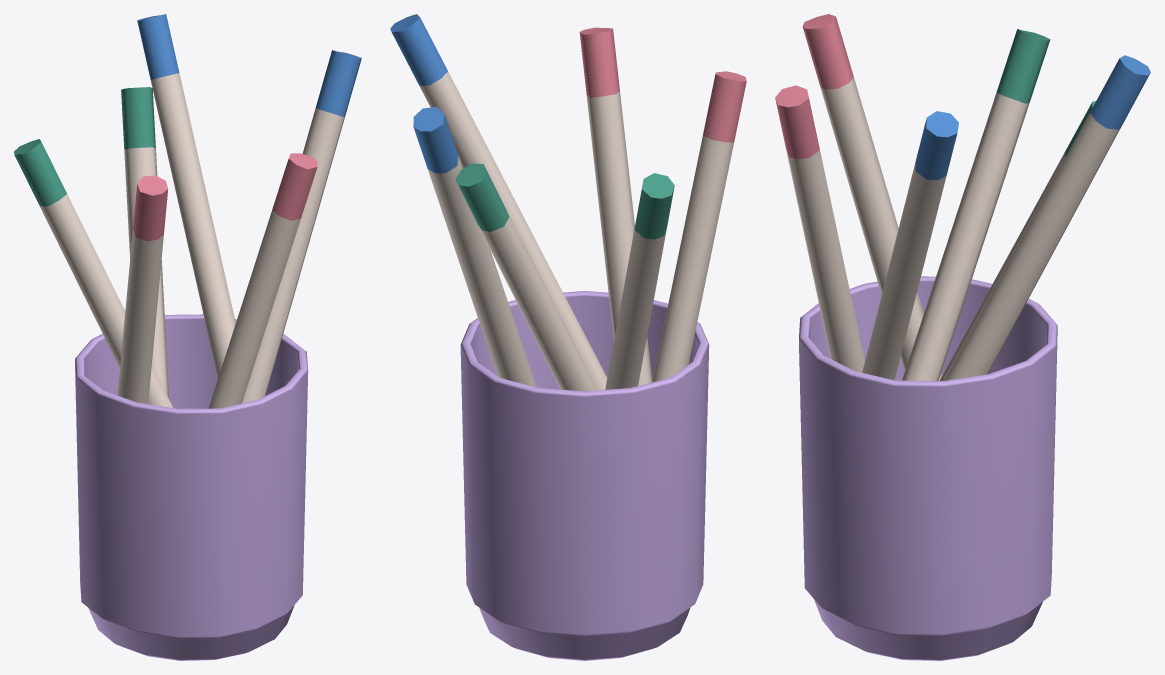
The model's file is Pens_1.glb.
3 renders of one model, left to right at view 1: azimuth 30°, elevation 25°; view 2: azimuth 150°, elevation 25°; view 3: azimuth 270°, elevation 25°, orthographic. The views are drawn at different scales.
Visible parts, largest first — view 1: Pens_1; view 2: Pens_1; view 3: Pens_1.
Boxes of the visible parts, x1=… form: Pens_1: x1=14, y1=14, x2=361, y2=660; Pens_1: x1=390, y1=14, x2=746, y2=660; Pens_1: x1=775, y1=14, x2=1150, y2=660.
Size of the model in its own units: 0.2148 by 0.3597 by 0.2075.
1 material, 1 textured.
